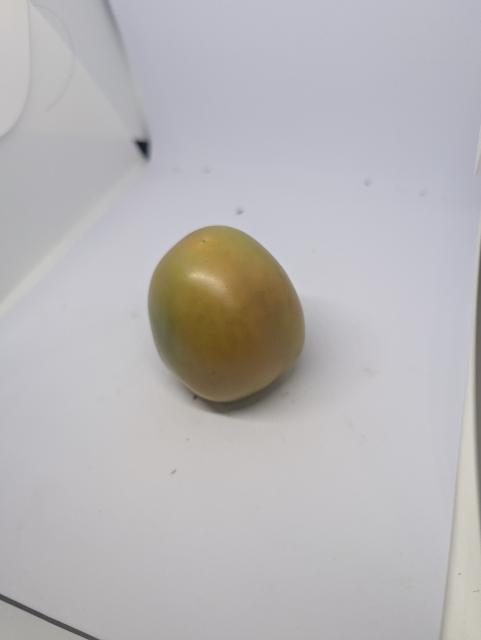breaker: (146, 223, 309, 403)
